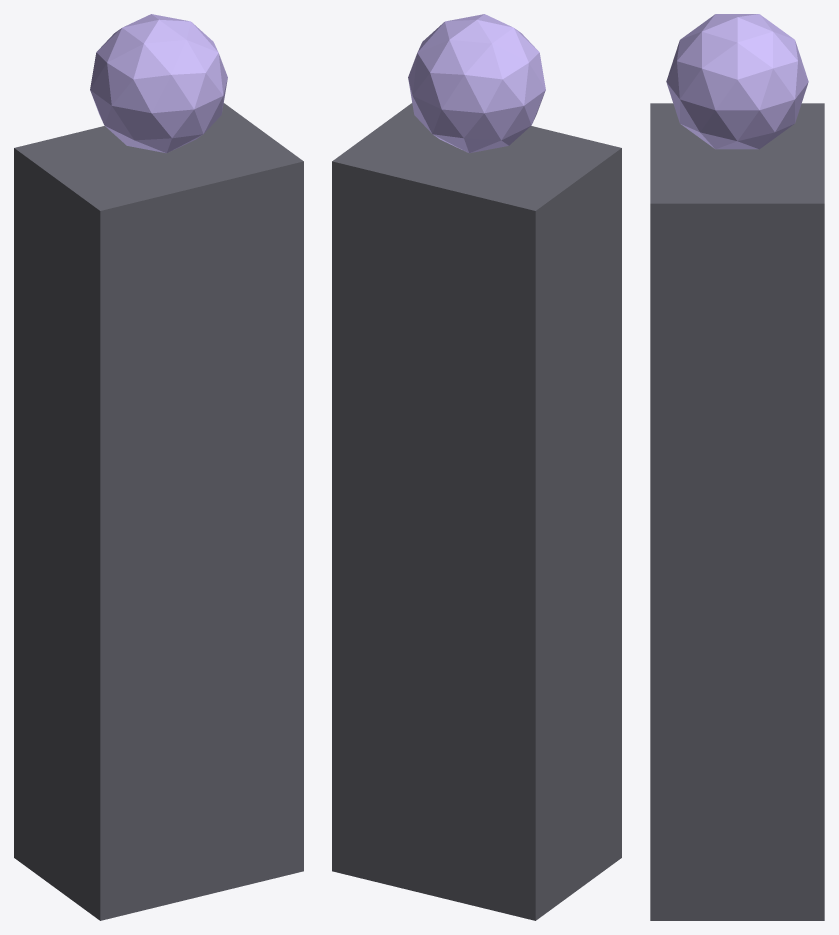
Rendered from waymark.obj.
The picture shows the model from 3 angles, left to right: view 1: azimuth 30°, elevation 25°; view 2: azimuth 150°, elevation 25°; view 3: azimuth 270°, elevation 25°; orthographic projection.
Parts seen in each view (by area): view 1: part_0, part_1; view 2: part_0, part_1; view 3: part_0, part_1.
Boxes of the visible parts, x1,y1,x2,y2 form: part_0: (14, 103, 303, 920); part_1: (90, 14, 227, 153); part_0: (332, 103, 621, 920); part_1: (408, 14, 545, 153); part_0: (650, 103, 824, 920); part_1: (666, 14, 808, 149).
Size of the model in its own units: 0.3 by 1.19 by 0.22.
